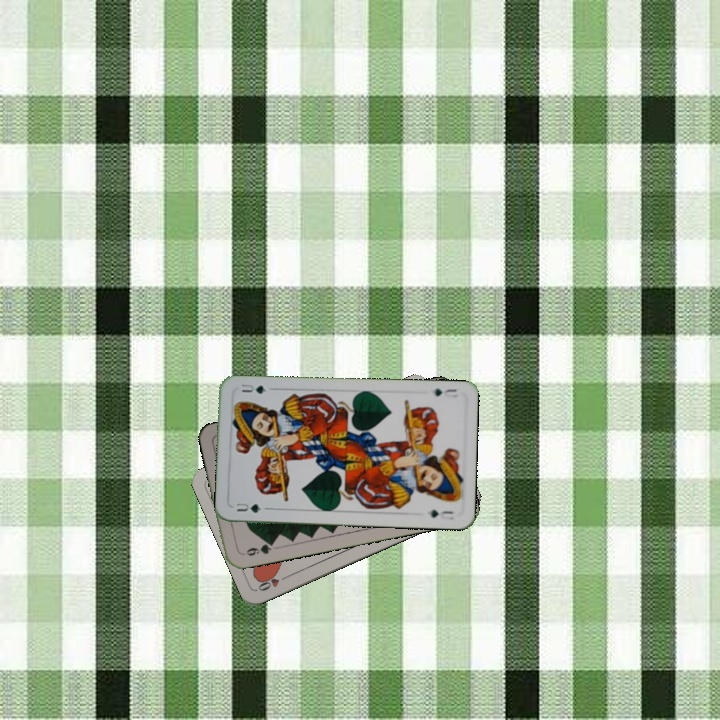G9: (238, 538, 277, 559)
GU: (232, 499, 270, 515), (430, 384, 459, 399)
HO: (254, 570, 292, 594)
